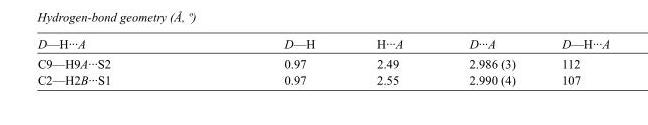table: (36, 36, 609, 86)
table column: (36, 36, 196, 86), (196, 36, 345, 86), (435, 36, 537, 86), (345, 36, 435, 86), (537, 36, 609, 86)
table row: (36, 53, 609, 71), (36, 36, 609, 53), (36, 71, 609, 86)
